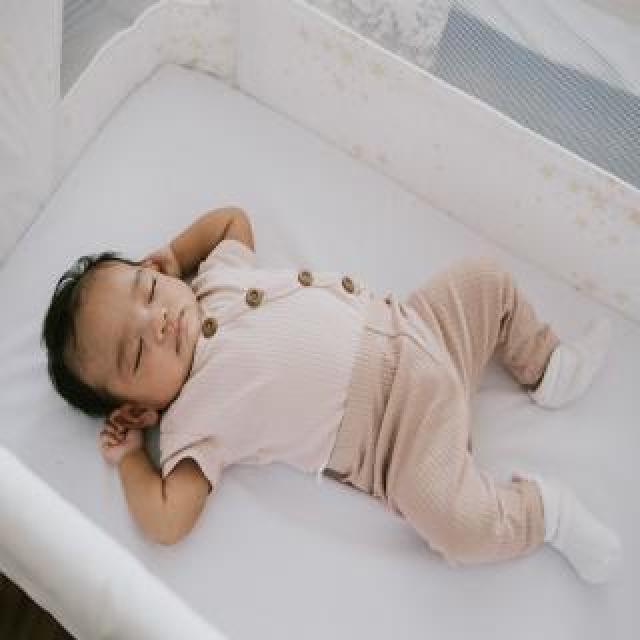baby: (41, 204, 621, 584)
